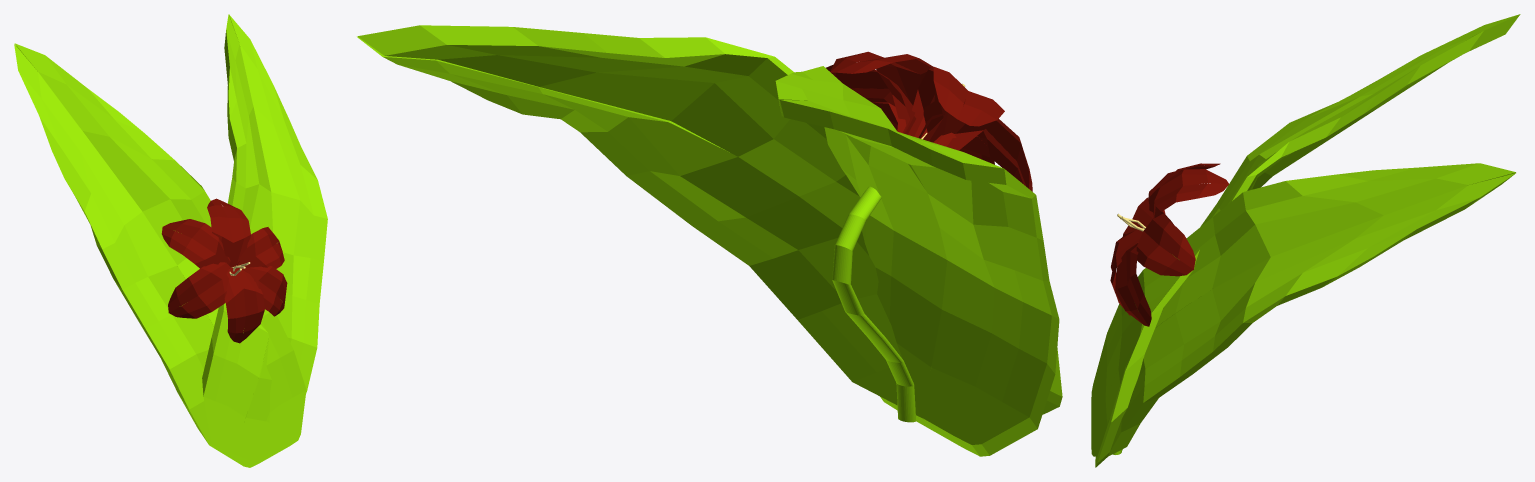
Rendered from flower3.fbx.
3 views of the same model, side by side, from view 1: azimuth 30°, elevation 25°; view 2: azimuth 150°, elevation 25°; view 3: azimuth 270°, elevation 25° (orthographic). The views are drawn at different scales.
Parts seen in each view (by area): view 1: Плоскость.006, Плоскость.007, Плоскость.001, Плоскость, Плоскость.002, Плоскость.003, Плоскость.004, Плоскость.005; view 2: Плоскость.007, Плоскость.006, Цилиндр.003, Плоскость.002, Плоскость.003, Плоскость.001, Плоскость.004; view 3: Плоскость.007, Плоскость.006, Плоскость.004, Плоскость.003, Плоскость.005, Плоскость, Плоскость.002, Плоскость.001.
Part boxes in pixels (x1,y1,x2,y2): Плоскость.006: (14, 43, 306, 467); Плоскость.007: (202, 14, 327, 462); Плоскость.001: (168, 262, 230, 318); Плоскость: (224, 267, 264, 343); Плоскость.002: (161, 219, 230, 268); Плоскость.003: (207, 198, 250, 266); Плоскость.004: (231, 227, 284, 268); Плоскость.005: (236, 266, 287, 316); Плоскость.007: (357, 25, 1062, 418); Плоскость.006: (775, 66, 1059, 456); Цилиндр.003: (832, 186, 916, 422); Плоскость.002: (908, 66, 1004, 150); Плоскость.003: (830, 51, 947, 142); Плоскость.001: (918, 113, 1032, 191); Плоскость.004: (826, 64, 916, 134); Плоскость.007: (1091, 163, 1515, 456); Плоскость.006: (1095, 14, 1520, 467); Плоскость.004: (1136, 212, 1195, 276); Плоскость.003: (1153, 169, 1228, 217); Плоскость.005: (1115, 243, 1151, 326); Плоскость: (1110, 226, 1146, 315); Плоскость.002: (1148, 163, 1220, 214); Плоскость.001: (1123, 197, 1153, 236).
Bounding box in the file's own units: 721 × 907 × 877.
